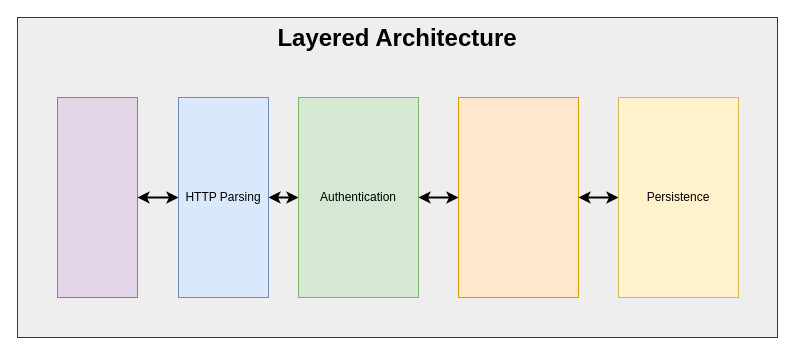
This 795x355 diagram has some shape labels left out. Each missing label, with the box of its shape:
BusinessLogic: (458, 96, 578, 298)
TCP/IP: (56, 96, 138, 298)
